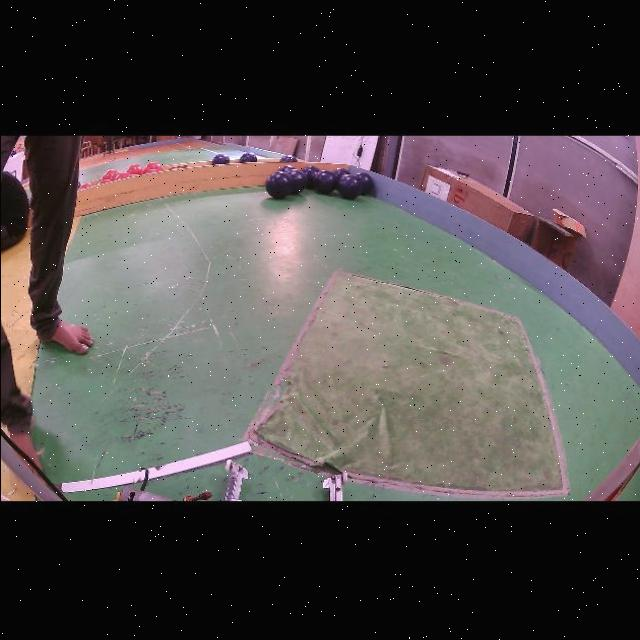B: (264, 169, 292, 197), (311, 168, 337, 192), (335, 173, 361, 197), (285, 167, 306, 192), (301, 164, 319, 187), (355, 171, 372, 194), (332, 166, 349, 178), (239, 150, 257, 161), (211, 152, 229, 163), (277, 163, 294, 171), (280, 153, 296, 161)
R: (144, 159, 162, 172), (125, 162, 142, 173), (102, 167, 117, 177), (113, 171, 129, 178), (78, 181, 93, 188), (144, 167, 162, 172), (97, 177, 109, 183)
